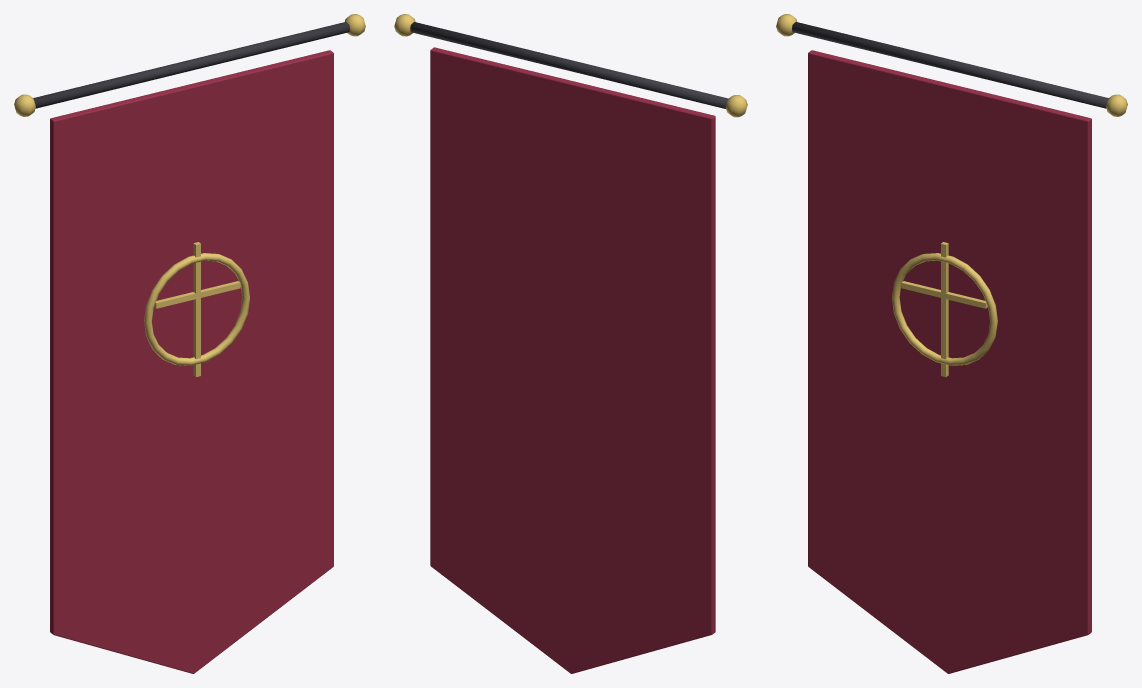
File: banner_house_red.glb
The picture shows the model from 3 angles, left to right: view 1: azimuth 30°, elevation 25°; view 2: azimuth 150°, elevation 25°; view 3: azimuth 330°, elevation 25°; orthographic projection.
Visible parts, largest first — view 1: GD_banner_house_red__m2, GD_banner_house_red__m1, GD_banner_house_red__m0; view 2: GD_banner_house_red__m2, GD_banner_house_red__m0, GD_banner_house_red__m1; view 3: GD_banner_house_red__m2, GD_banner_house_red__m1, GD_banner_house_red__m0.
Boxes of the visible parts, x1,y1,x2,y2 form: GD_banner_house_red__m2: (50,50,333,673); GD_banner_house_red__m1: (14,14,365,376); GD_banner_house_red__m0: (33,22,349,108); GD_banner_house_red__m2: (430,47,715,673); GD_banner_house_red__m0: (410,22,728,108); GD_banner_house_red__m1: (394,14,747,117); GD_banner_house_red__m2: (808,50,1091,673); GD_banner_house_red__m1: (776,14,1127,376); GD_banner_house_red__m0: (792,22,1108,108).
Bounding box in the file's own units: 0.996 × 1.68 × 0.073.
